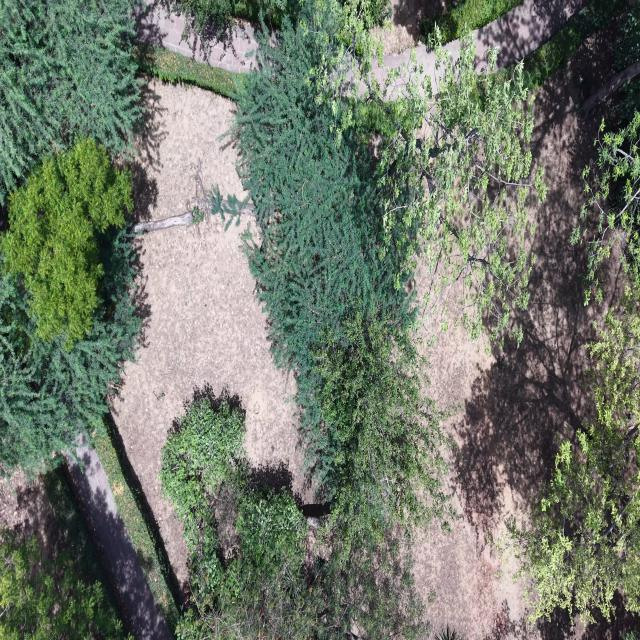DRY_AREA: (415, 34, 621, 639), (415, 36, 619, 639), (415, 43, 619, 639), (415, 84, 601, 639), (113, 218, 303, 581), (113, 217, 301, 582), (67, 438, 171, 639), (137, 3, 257, 72), (476, 0, 582, 64), (373, 0, 442, 90), (0, 470, 56, 551), (375, 0, 444, 55)
VEGETATION_TREE: (0, 0, 621, 639), (161, 2, 543, 638), (232, 8, 544, 634), (235, 16, 544, 379), (235, 23, 448, 545), (0, 0, 143, 639), (287, 11, 545, 341), (309, 30, 546, 343), (508, 80, 639, 621), (0, 0, 142, 474), (161, 387, 428, 638), (508, 112, 639, 621), (357, 30, 546, 345), (0, 141, 139, 474), (508, 283, 639, 621), (161, 387, 314, 638), (302, 313, 450, 556), (0, 0, 142, 203), (0, 139, 132, 350), (0, 468, 131, 639), (93, 414, 183, 630), (160, 387, 244, 554), (311, 530, 431, 639), (571, 112, 639, 304), (0, 537, 125, 639), (42, 466, 123, 617), (524, 0, 625, 91), (163, 0, 308, 53), (315, 0, 392, 96), (580, 3, 639, 121), (581, 3, 639, 122), (136, 44, 243, 97), (163, 0, 300, 41), (421, 0, 522, 43), (165, 0, 252, 41), (616, 3, 639, 69), (435, 624, 463, 639), (623, 632, 637, 639)
